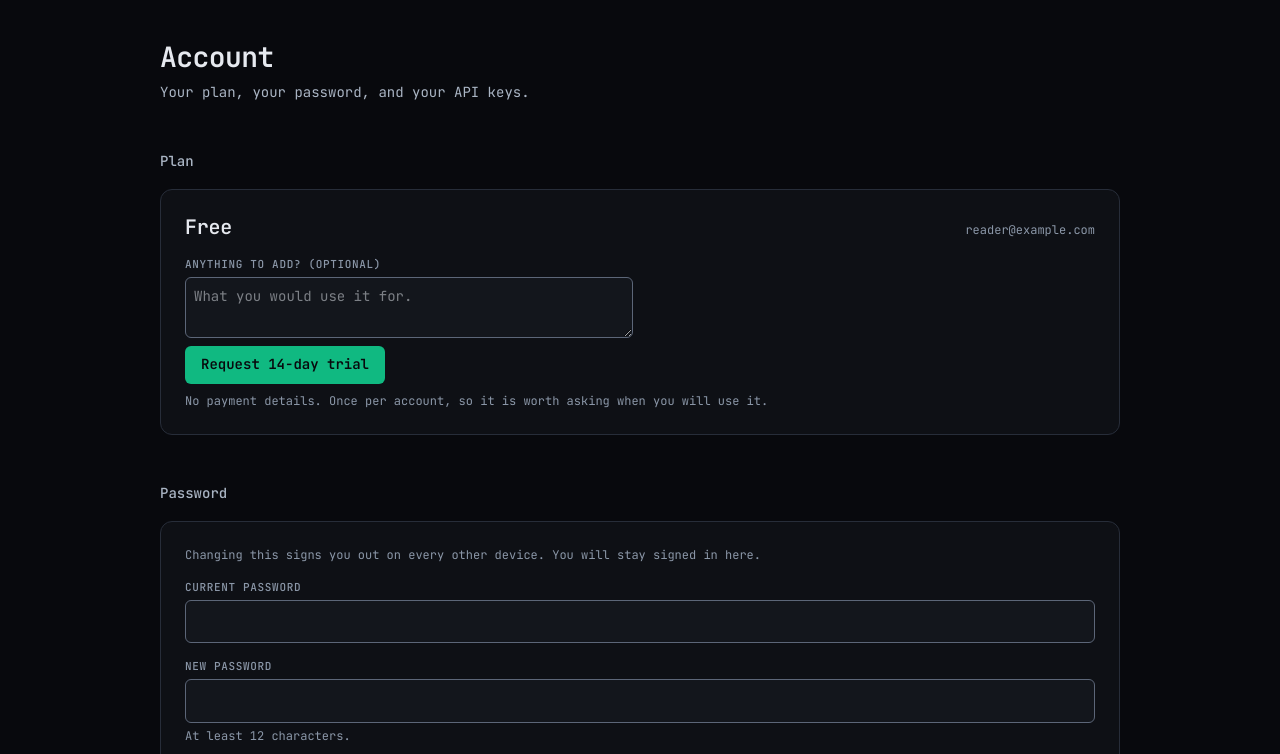
Test: the plan › shows the API’s own refusal if the request is rejected
The width and height of the screenshot is (1280, 754).
Click the button "Request 14-day trial".
click(285, 365)  # box [185,346,385,384]
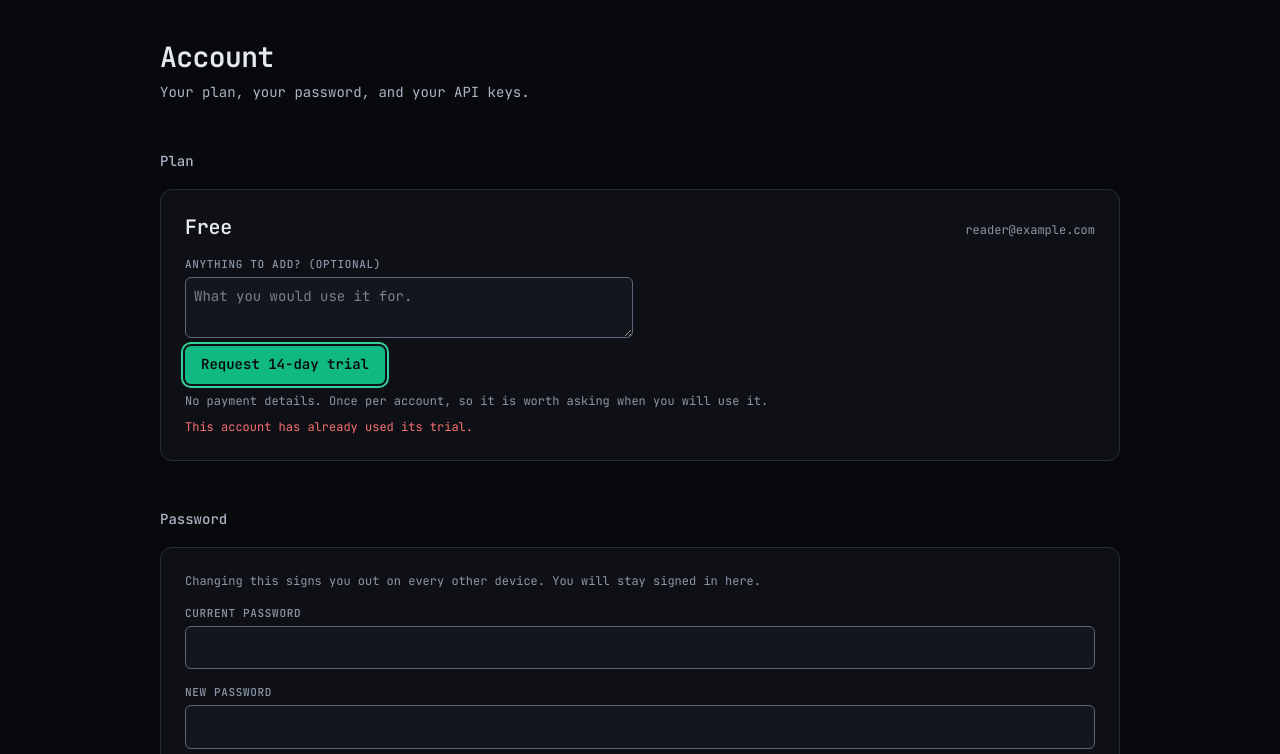
Expected: the message reads "This account has already used its trial.", [185,419,473,435]
